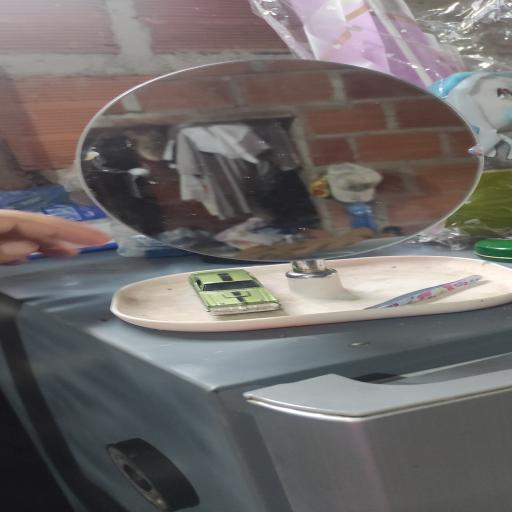Carrito: (189, 269, 281, 316)
